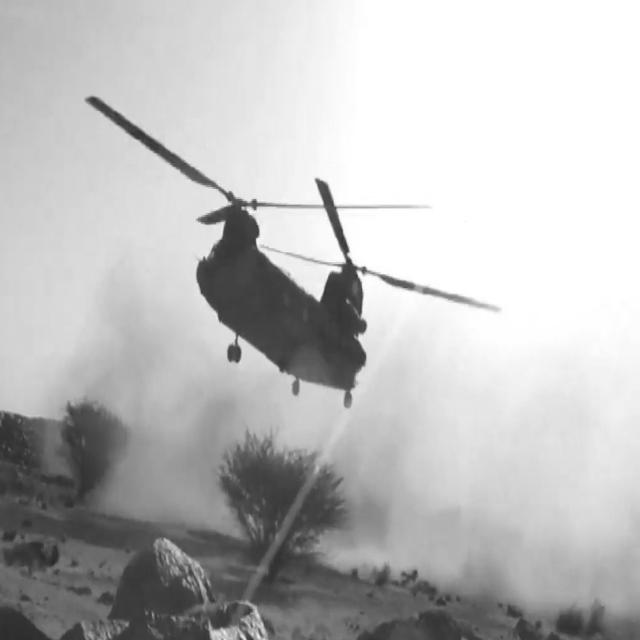Helicopter: (86, 97, 499, 408)
